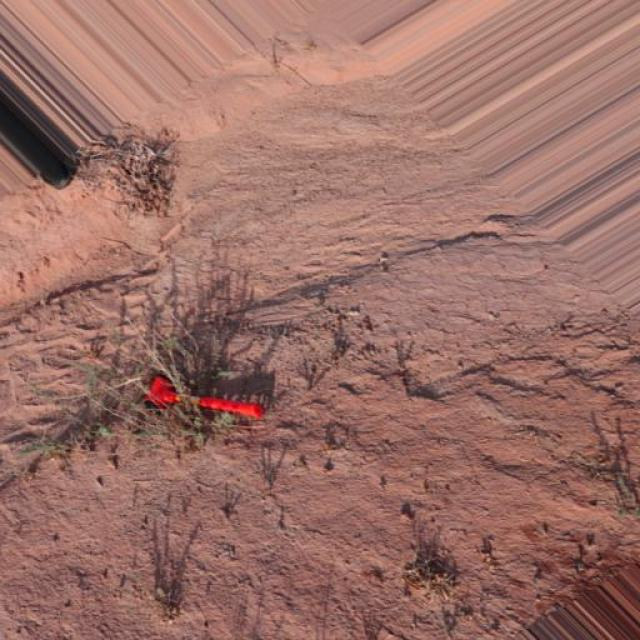mallet: (143, 374, 265, 420)
